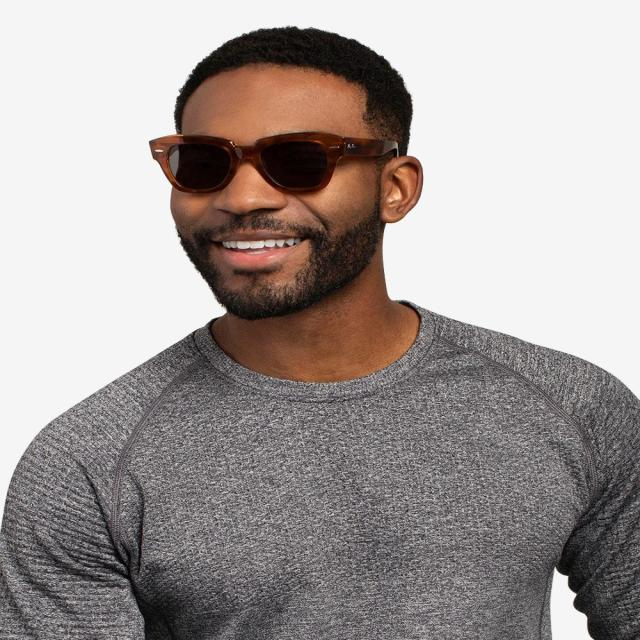2_gafas: (148, 130, 400, 194)
